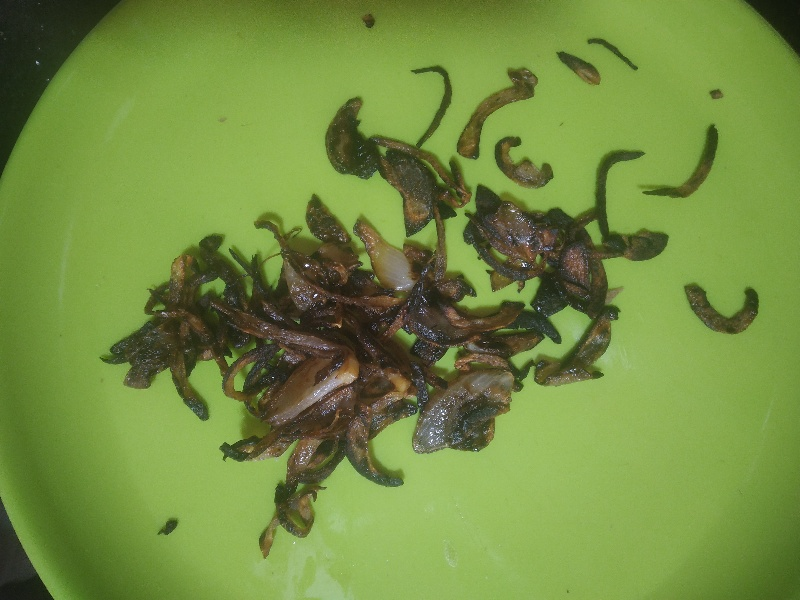onion_burnt: (97, 190, 525, 560), (465, 182, 614, 319), (532, 307, 615, 386), (311, 86, 375, 183), (385, 146, 442, 238), (490, 133, 553, 190), (558, 47, 602, 88)
